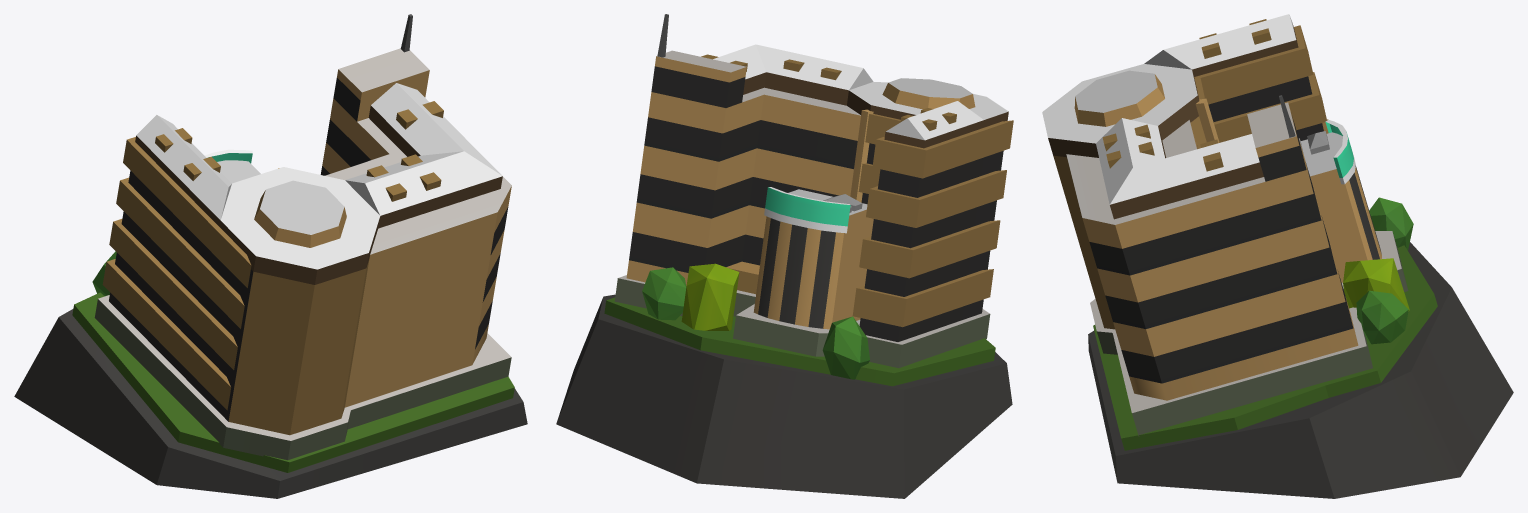
File: city_lv06_A.fbx
The picture shows the model from 3 angles, left to right: view 1: azimuth 30°, elevation 25°; view 2: azimuth 150°, elevation 25°; view 3: azimuth 270°, elevation 25°; orthographic projection. The views are drawn at different scales.
Parts seen in each view (by area): view 1: city_lv06_A; view 2: city_lv06_A; view 3: city_lv06_A.
Boxes of the visible parts, left/top/right/bottom form: city_lv06_A: left=14, top=14, right=527, bottom=498; city_lv06_A: left=556, top=14, right=1013, bottom=498; city_lv06_A: left=1042, top=14, right=1513, bottom=498.
Size of the model in its own units: 3699 by 3345 by 3800.
